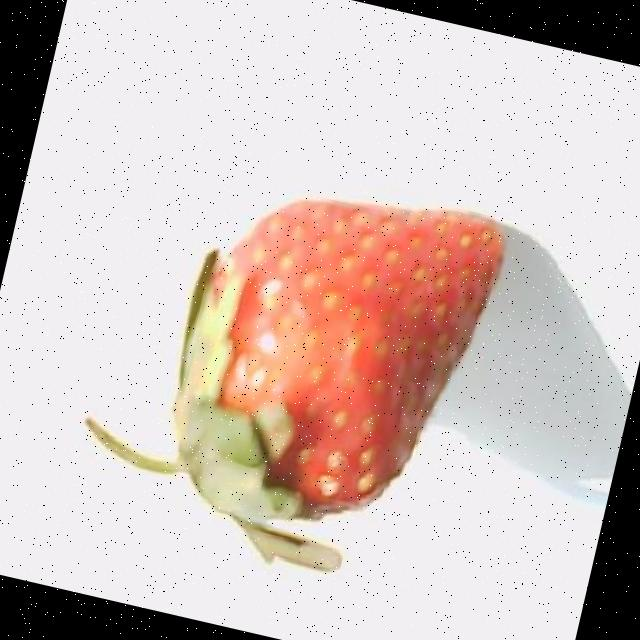strawberry: (86, 200, 503, 570)
